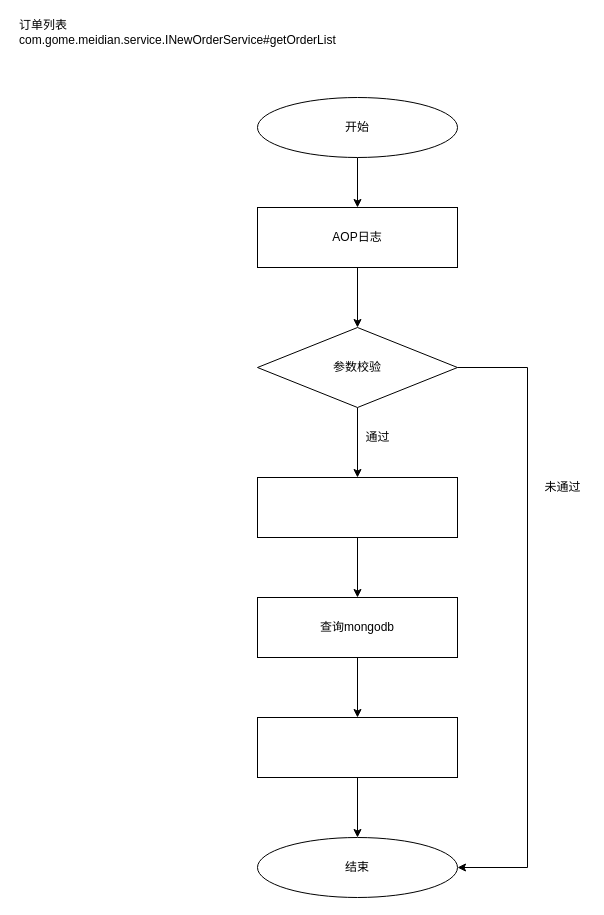
Some shapes in this 604 by 915 pixel diagram are drawn without their labels. The shapes that lost their labels are listed below. From the top down, each one's centre as x and y in pixels, then its label:
At (x=357, y=507): "参数组装".
At (x=357, y=747): "返回值处理".
